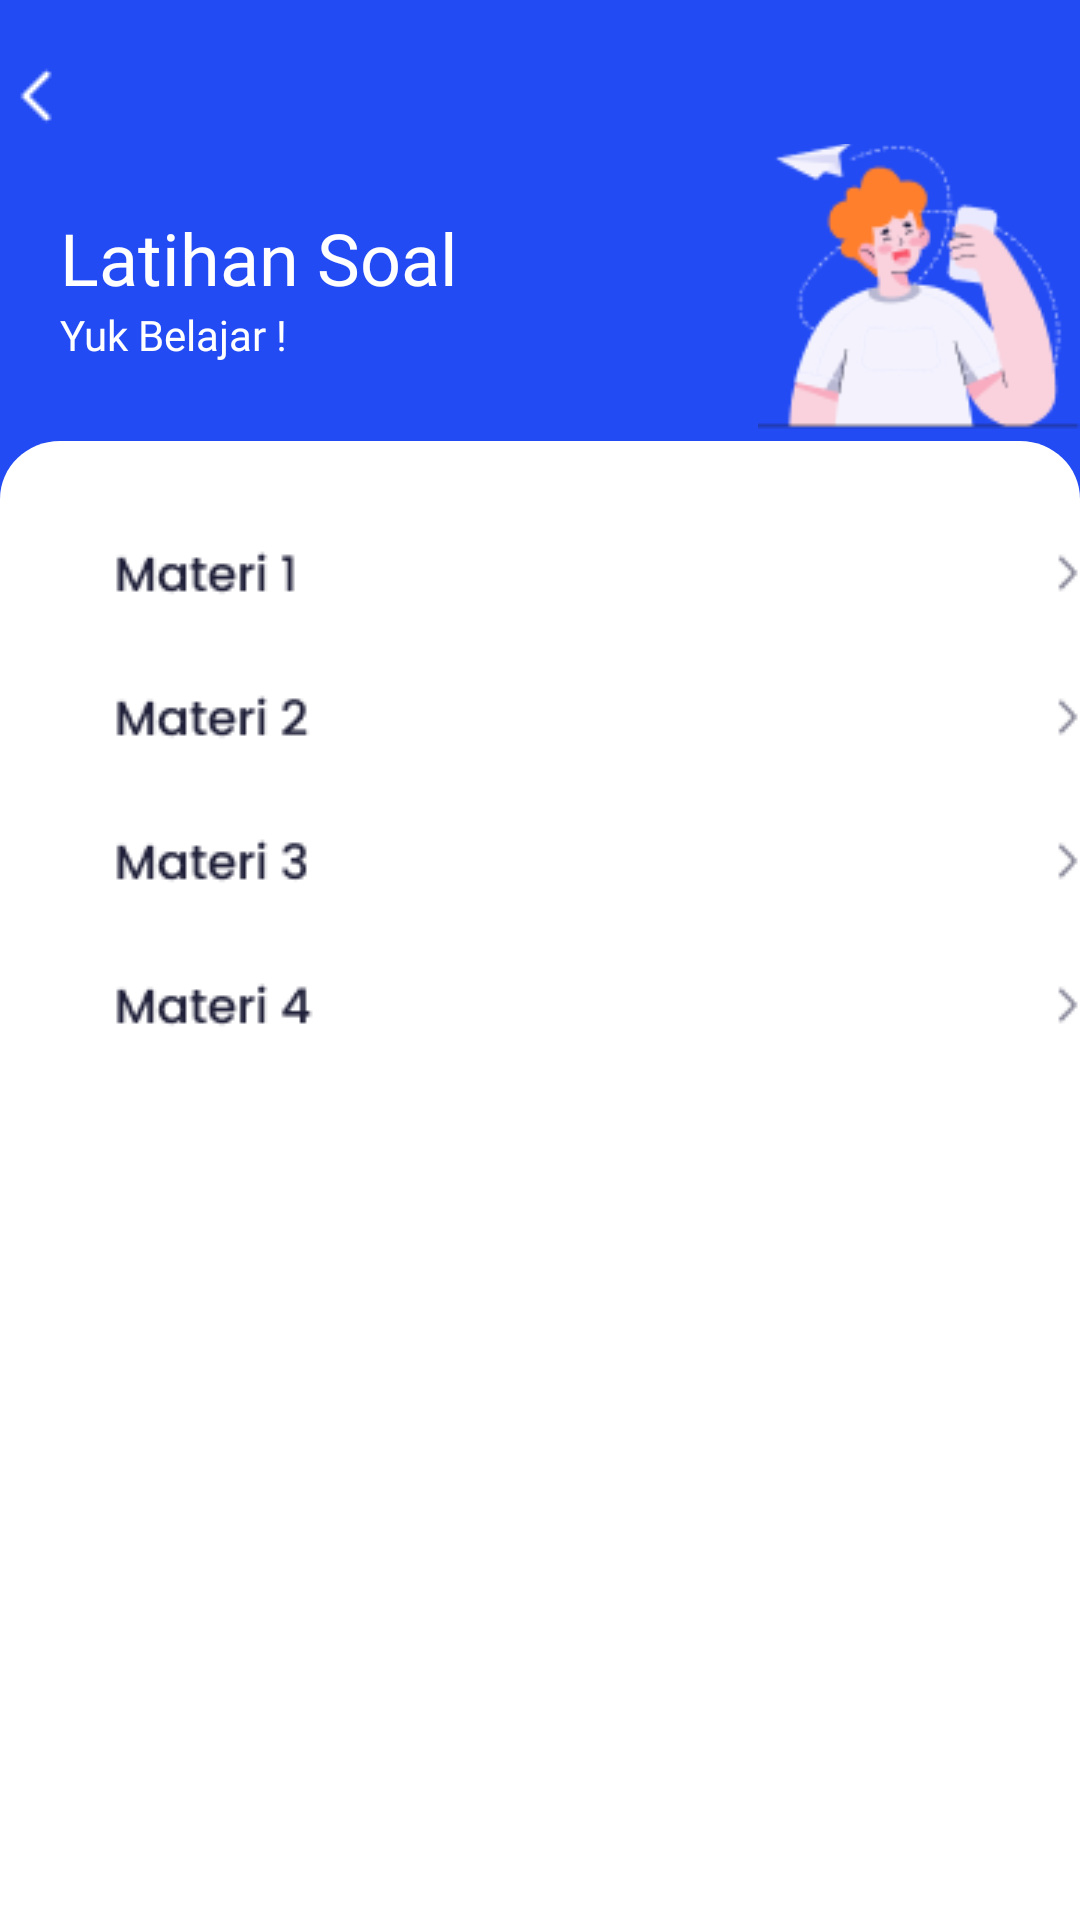

Icons on this 1080*1920 Android screen, each with the point to tap as [x,y]:
leftsiku: [36,95]
